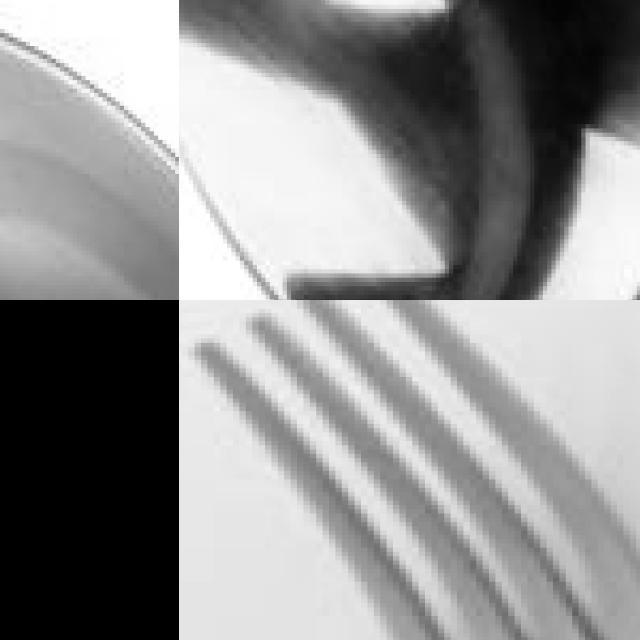forks: (179, 300, 640, 640)
spoons: (179, 0, 640, 300), (0, 0, 179, 300)
